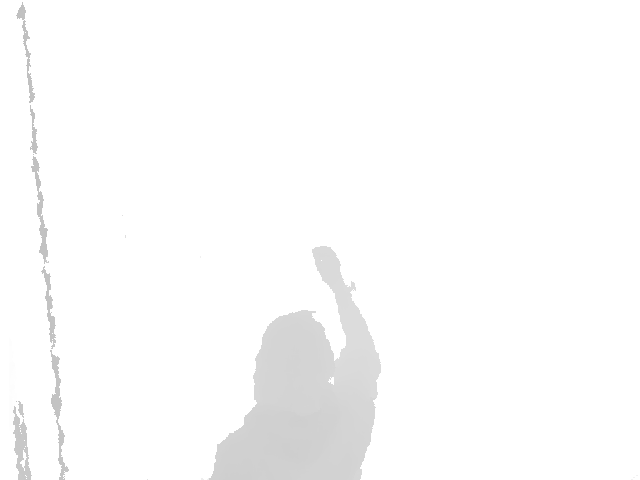hand: (311, 246, 352, 296)
head: (254, 311, 334, 412)
person: (209, 245, 381, 480)
